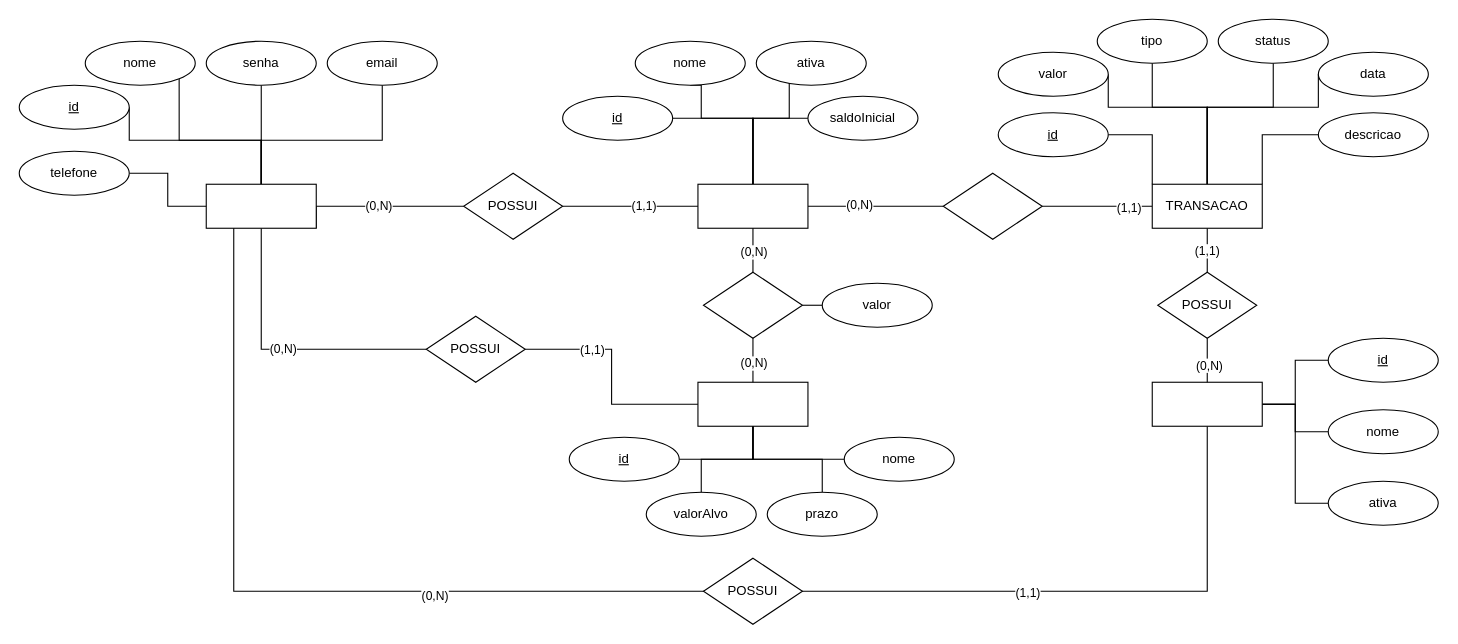
Image size: 1458x644. Some labels were removed from this diagram. Each missing label, with the centre of its shape:
"CATEGORIA" belongs at (x=1206, y=403).
"CONTA" belongs at (x=752, y=205).
"META" belongs at (x=752, y=403).
"REGISTRA" belongs at (x=992, y=205).
"RESERVA" belongs at (x=752, y=304).
"USUARIO" belongs at (x=260, y=205).
